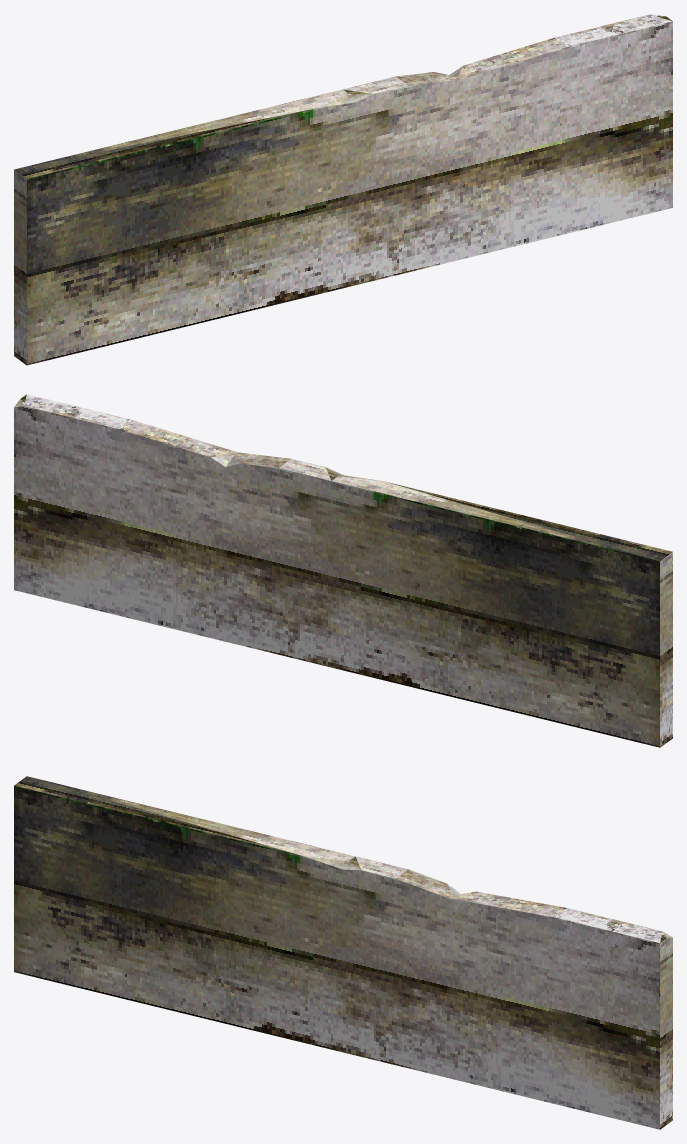
The model's file is plackard_slab_wood_patched.glb.
3 views of the same model, one above another, from view 1: azimuth 30°, elevation 25°; view 2: azimuth 150°, elevation 25°; view 3: azimuth 330°, elevation 25° (orthographic).
Parts seen in each view (by area): view 1: plackard_slab_wood_patched; view 2: plackard_slab_wood_patched; view 3: plackard_slab_wood_patched.
Part boxes in pixels (x1=…): plackard_slab_wood_patched: x1=14, y1=14, x2=672, y2=365; plackard_slab_wood_patched: x1=14, y1=394, x2=672, y2=747; plackard_slab_wood_patched: x1=14, y1=776, x2=672, y2=1129.
Bounding box in the file's own units: 2.9 × 0.8 × 0.1.
Materials: 1 (1 with a texture image).
